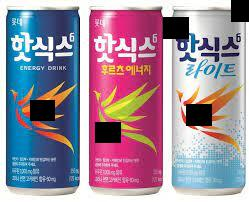hotsix_org: (5, 6, 82, 197)
